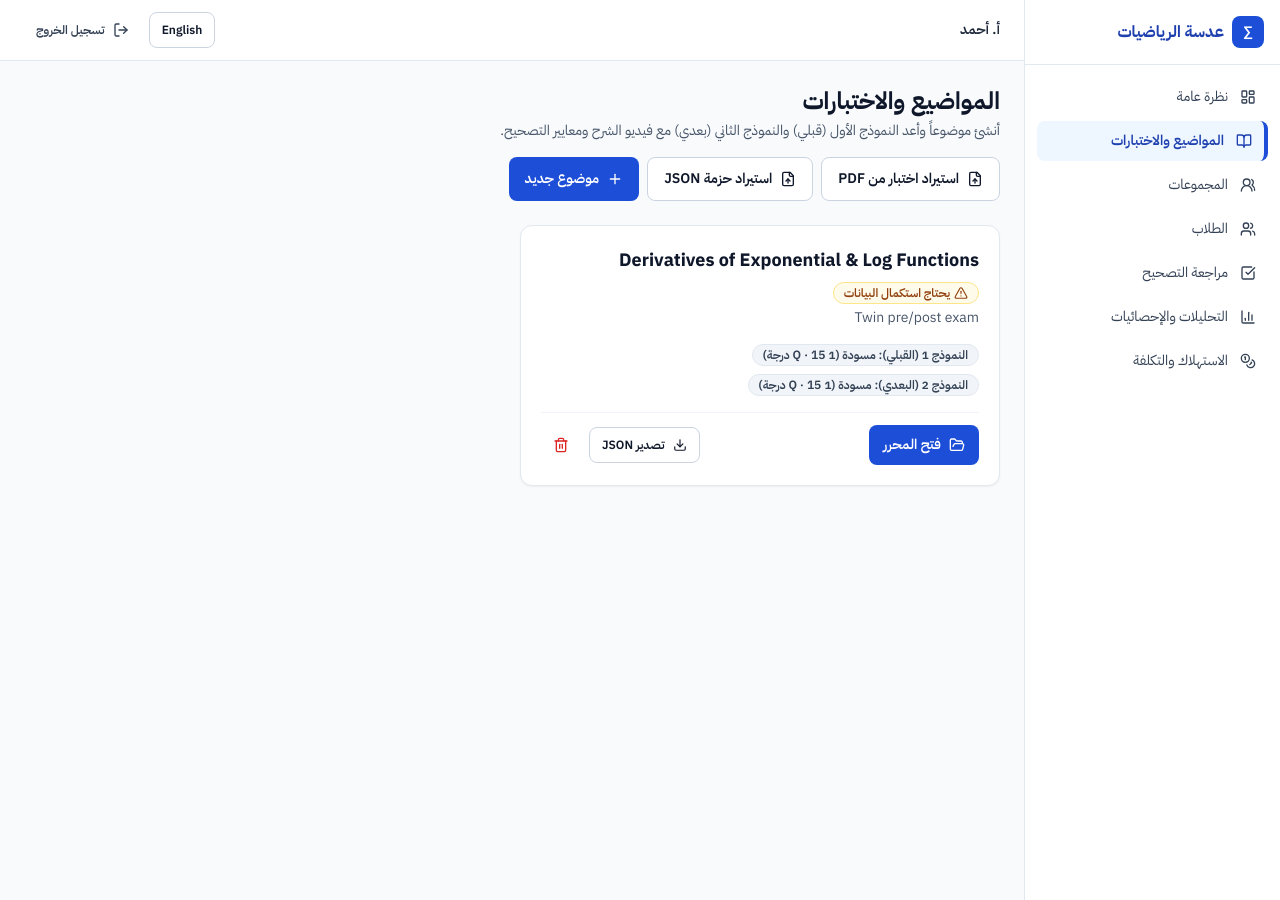
Test: Teacher Topics & Builder pages › renders TopicsPage with placeholder badge and new topic toggle
Check: the heading "Derivatives of Exponential & Log Functions" is shown, box [619, 246, 979, 274]
Check: the text "يحتاج استكمال البيانات" is shown, box [844, 285, 950, 301]
Click the button "موضوع جديد".
click(574, 179)  # box [508, 157, 639, 201]
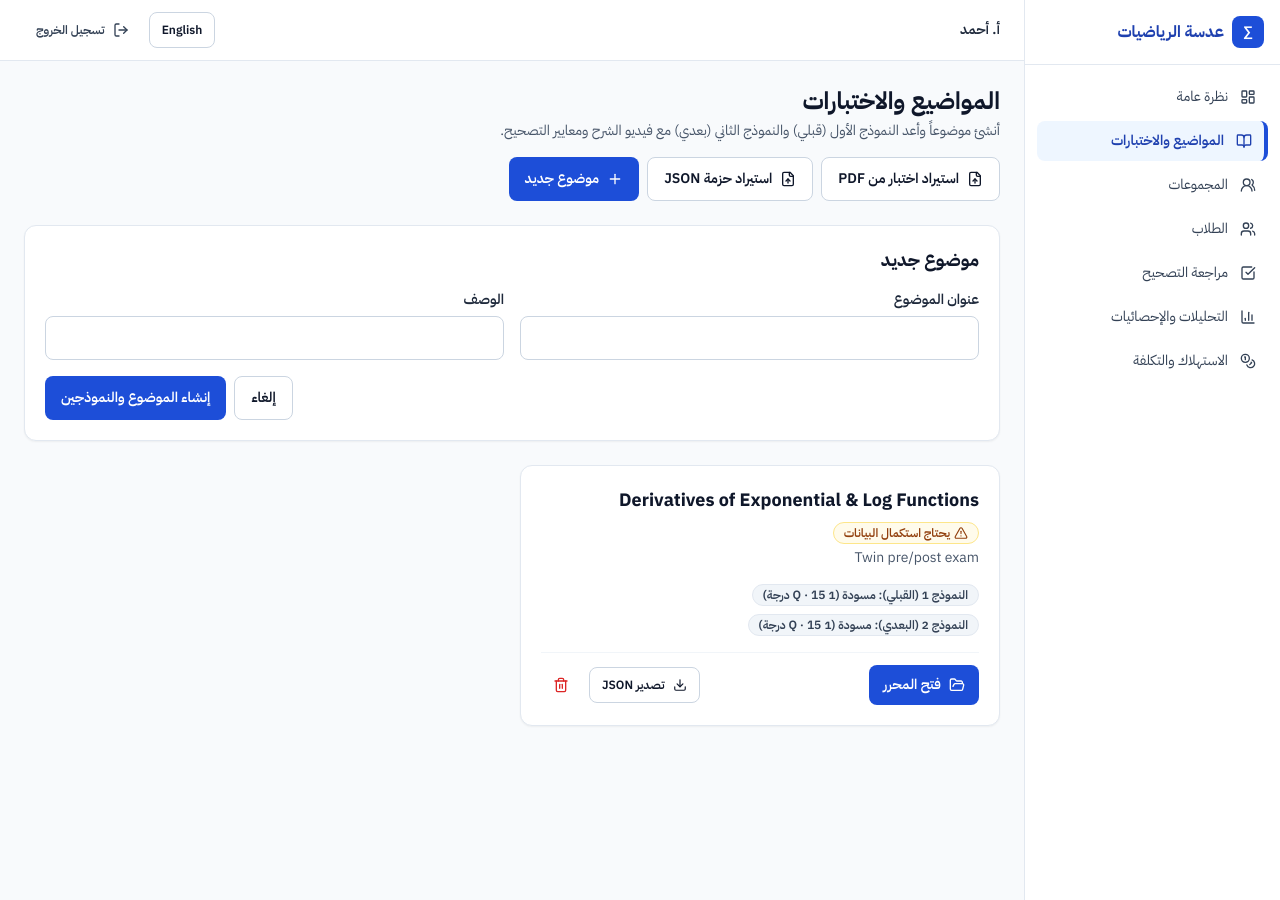
Check: the button "إنشاء الموضوع والنموذجين" is shown, box [45, 376, 226, 420]
